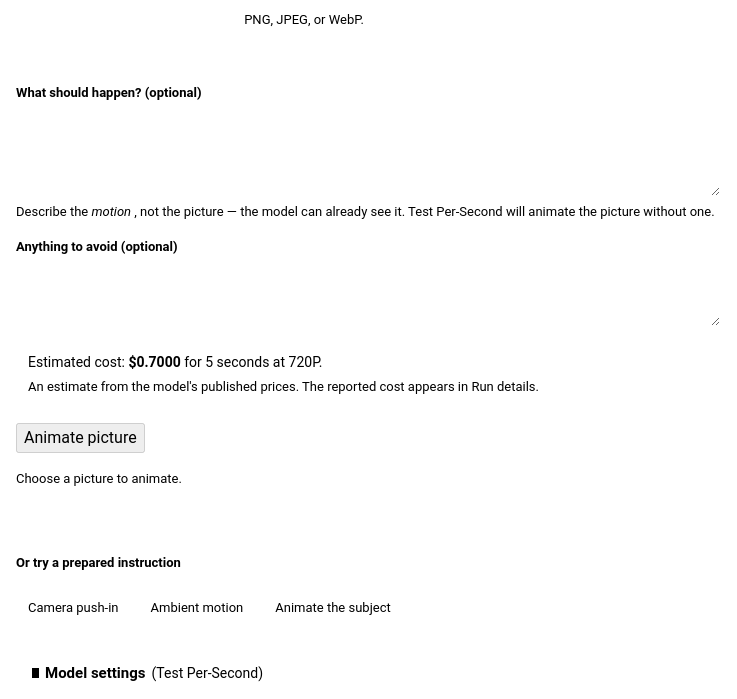
Test: the panel before a run › loads a prepared instruction without starting a run
(page scrolled)
Click the button "Camera push-in" at (73, 608), box [16,594,130,621]
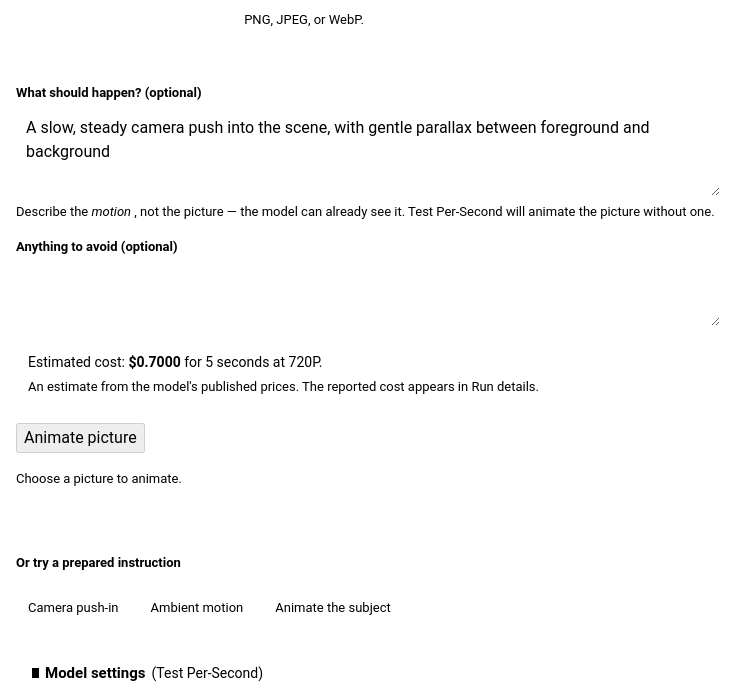
Expected: the text box with id "animate-motion-prompt" is not empty, [16,108,720,196]
